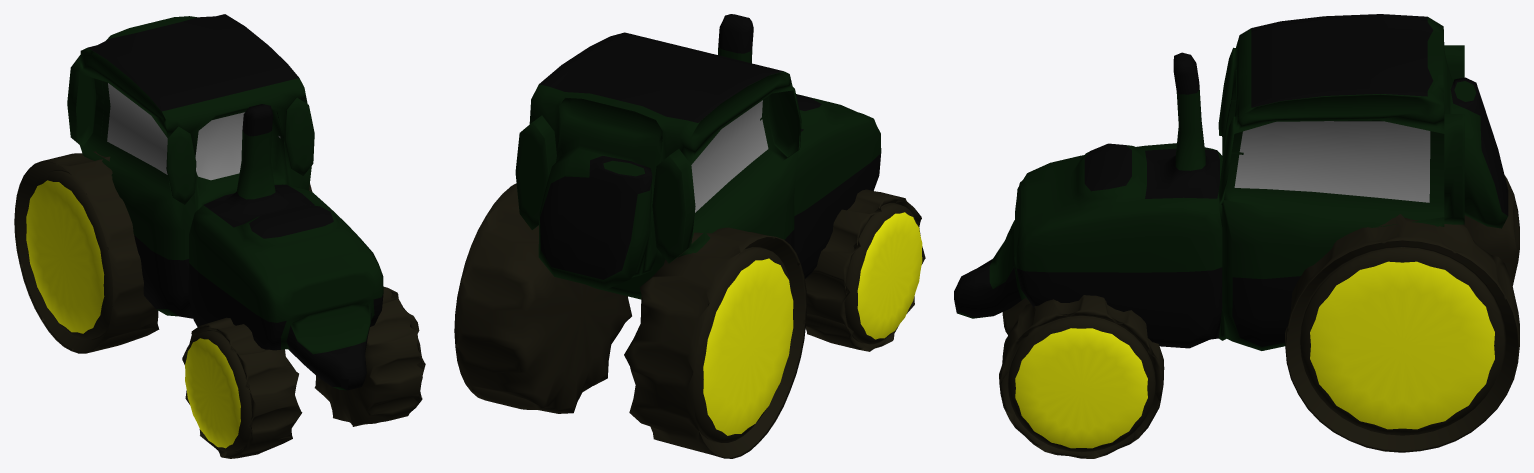
Rendered from tractor.obj.
3 views of the same model, side by side, from view 1: azimuth 30°, elevation 25°; view 2: azimuth 150°, elevation 25°; view 3: azimuth 270°, elevation 25° (orthographic). The views are drawn at different scales.
Visible parts, largest first — view 1: tractor1:pasted__pasted__pasted__pCylinder1pasted__group8pasted_; view 2: tractor1:pasted__pasted__pasted__pCylinder1pasted__group8pasted_; view 3: tractor1:pasted__pasted__pasted__pCylinder1pasted__group8pasted_.
Boxes of the visible parts, x1=… form: tractor1:pasted__pasted__pasted__pCylinder1pasted__group8pasted_: x1=14, y1=14, x2=425, y2=458; tractor1:pasted__pasted__pasted__pCylinder1pasted__group8pasted_: x1=454, y1=14, x2=925, y2=458; tractor1:pasted__pasted__pasted__pCylinder1pasted__group8pasted_: x1=954, y1=14, x2=1519, y2=458.
Bounding box in the file's own units: 10.56 × 14.66 × 21.1.
